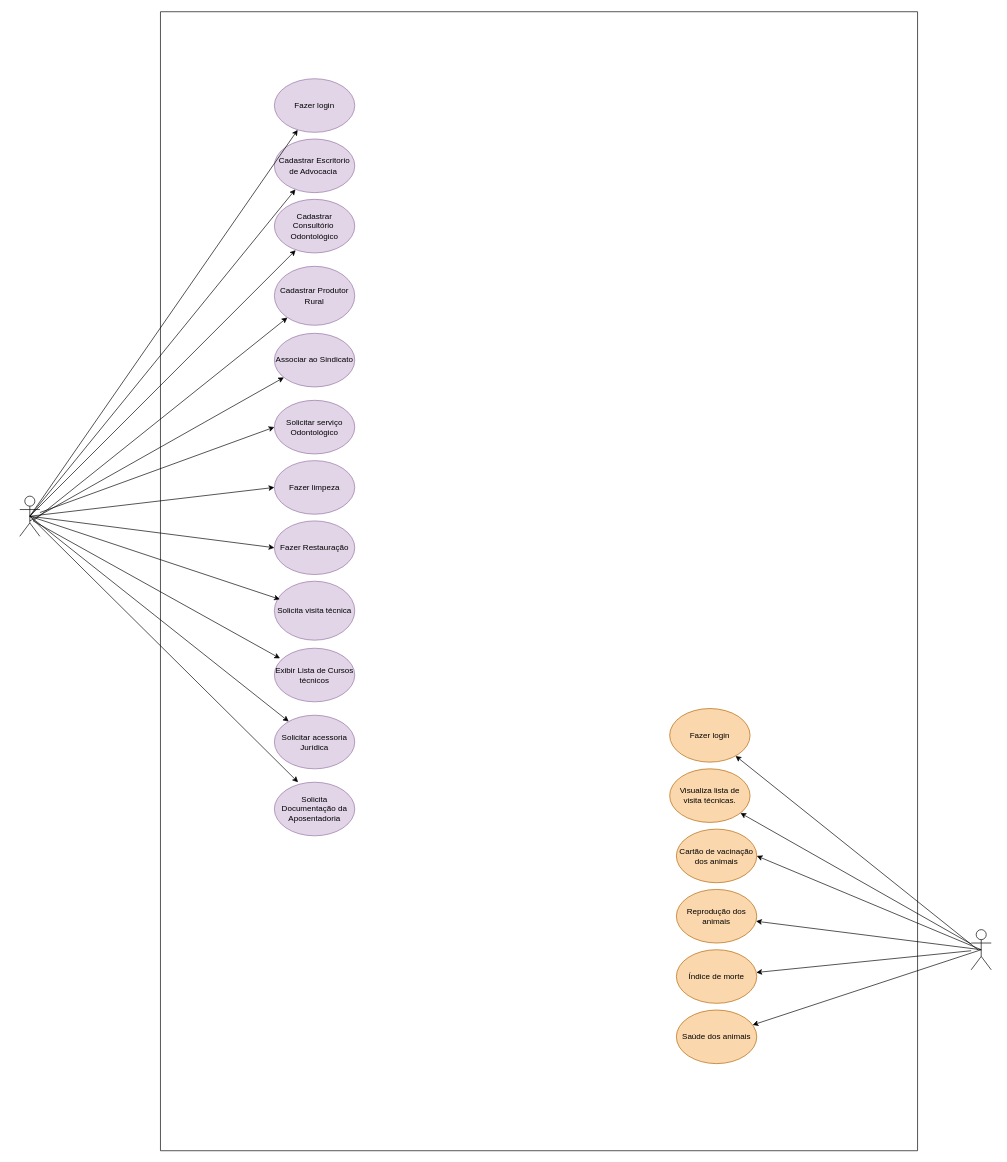
The diagram is 1007 pixels wide and 1162 high, and some of its shapes have lost their labels. Each missing label, with the centre of its shape:
"Secretário" belongs at point 29,515.
"Técnico" belongs at point 980,949.
